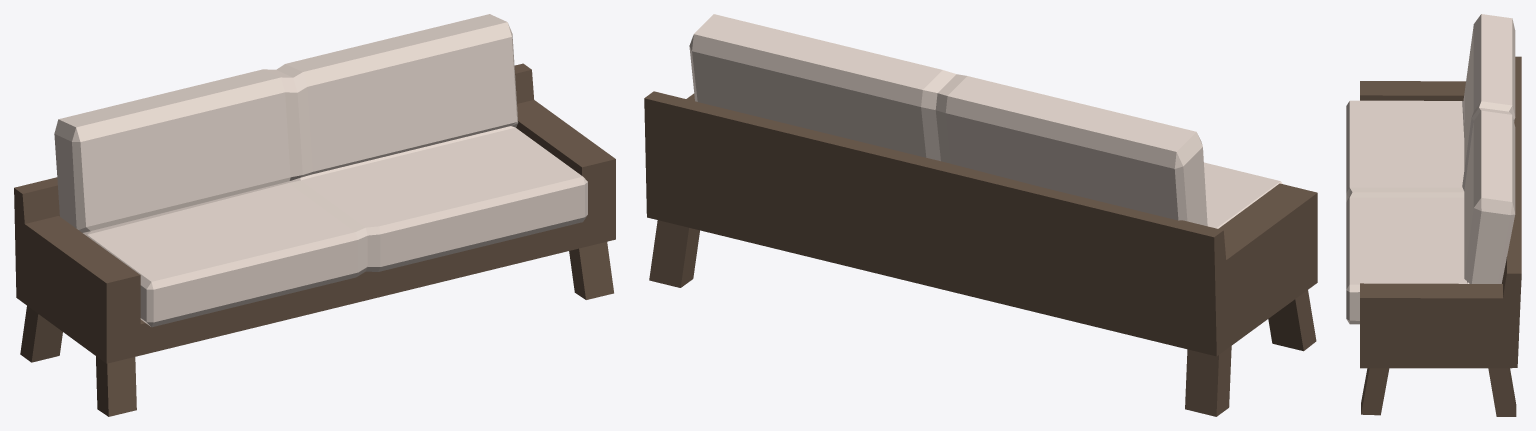
The model's file is Sofa_4.fbx.
3 views of the same model, side by side, from view 1: azimuth 30°, elevation 25°; view 2: azimuth 150°, elevation 25°; view 3: azimuth 270°, elevation 25° (orthographic). The views are drawn at different scales.
Parts seen in each view (by area): view 1: Sofa_4; view 2: Sofa_4; view 3: Sofa_4.
Part boxes in pixels (bbox=[...]): Sofa_4: bbox=[14, 14, 615, 416]; Sofa_4: bbox=[644, 14, 1317, 416]; Sofa_4: bbox=[1346, 14, 1521, 416].
Size of the model in its own units: 355 by 121 by 155.
